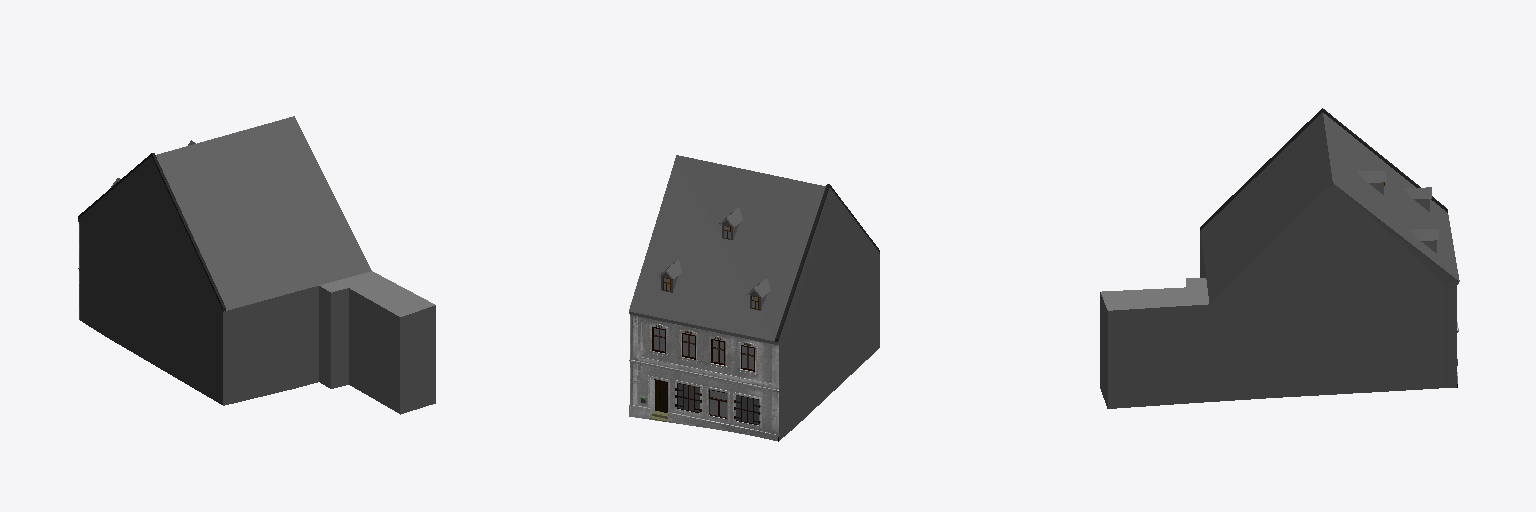
3 views of the same model, side by side, from view 1: azimuth 30°, elevation 25°; view 2: azimuth 150°, elevation 25°; view 3: azimuth 270°, elevation 25° (orthographic).
Parts seen in each view (by area): view 1: Model; view 2: Model; view 3: Model.
Part boxes in pixels (x1,y1,x2,y2): Model: (78,116,435,414); Model: (629,155,879,441); Model: (1100,108,1459,408).
Bounding box in the file's own units: 1.35 × 1.48 × 2.24.
Materials: 19 (2 with a texture image).